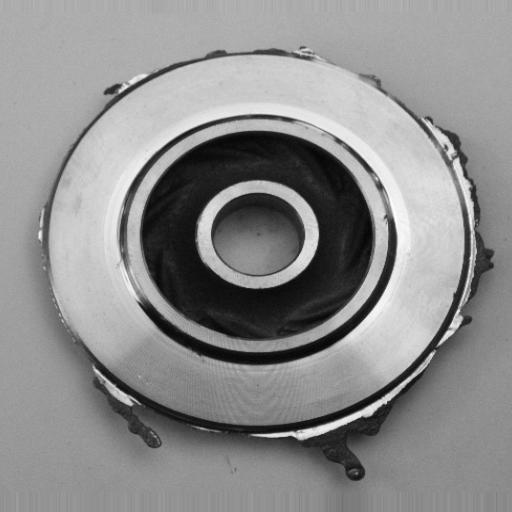casting_with_burr: (36, 41, 497, 483)
scratch: (282, 104, 350, 151), (112, 244, 151, 314), (370, 170, 405, 234)
